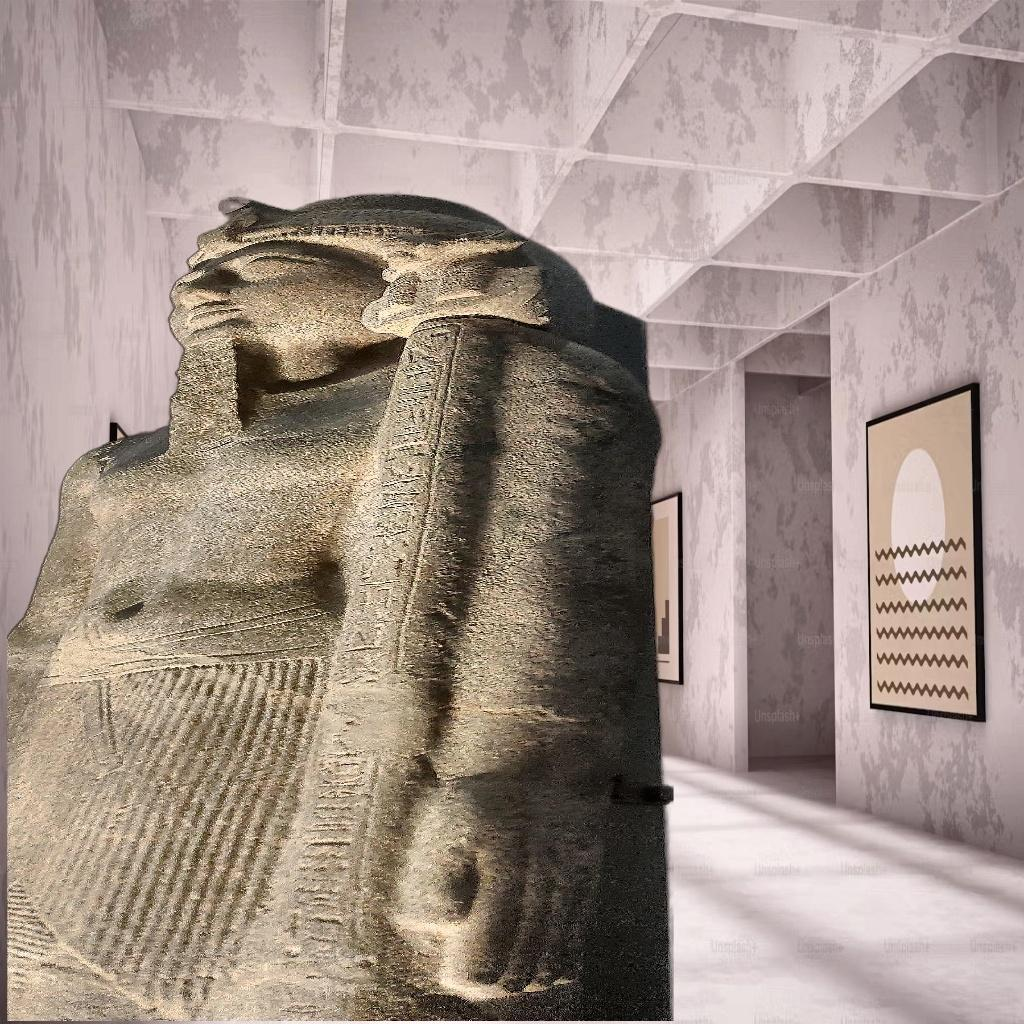Statue of Ramesses III as standard Bearer: (8, 190, 674, 1020)
